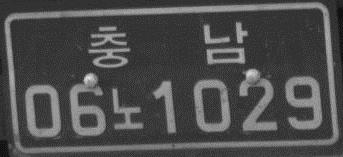0: (191, 77, 230, 134), (24, 82, 62, 139)
1: (149, 78, 179, 137)
2: (237, 75, 279, 134)
6: (67, 81, 106, 137)
9: (282, 73, 324, 132)
노: (109, 86, 146, 132)
충남_D: (87, 19, 248, 72)
